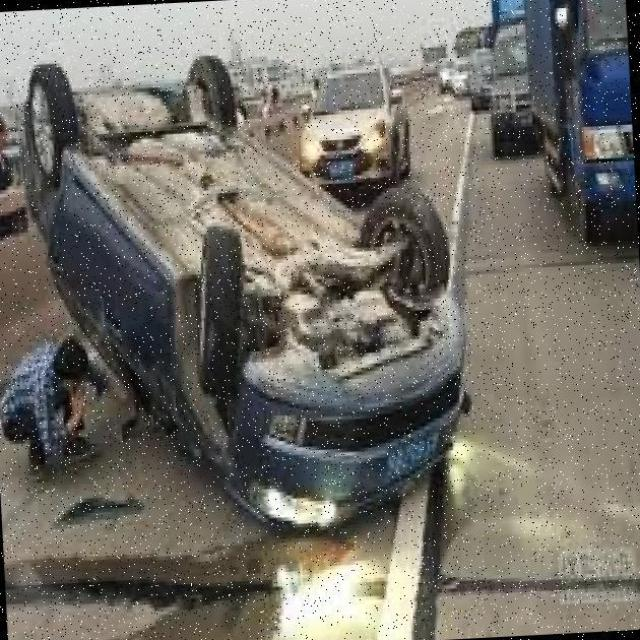accident: (2, 25, 498, 571)
